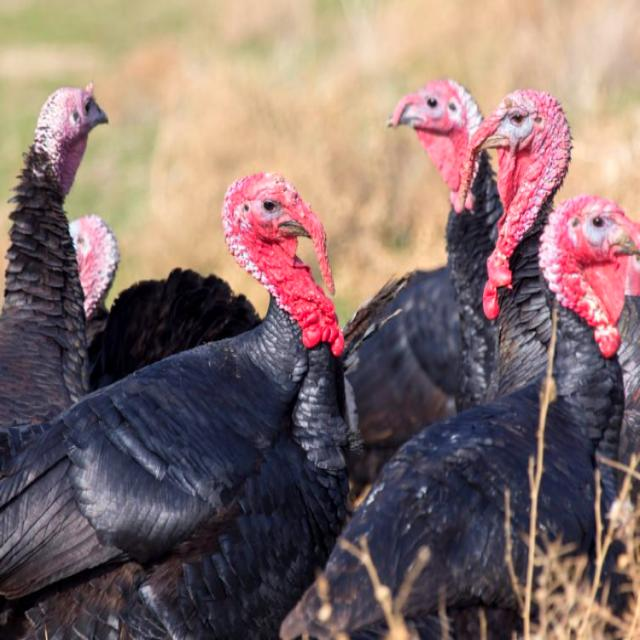turkey: (1, 173, 352, 639), (390, 81, 503, 407), (1, 85, 108, 427), (538, 195, 640, 553), (472, 89, 573, 394)
